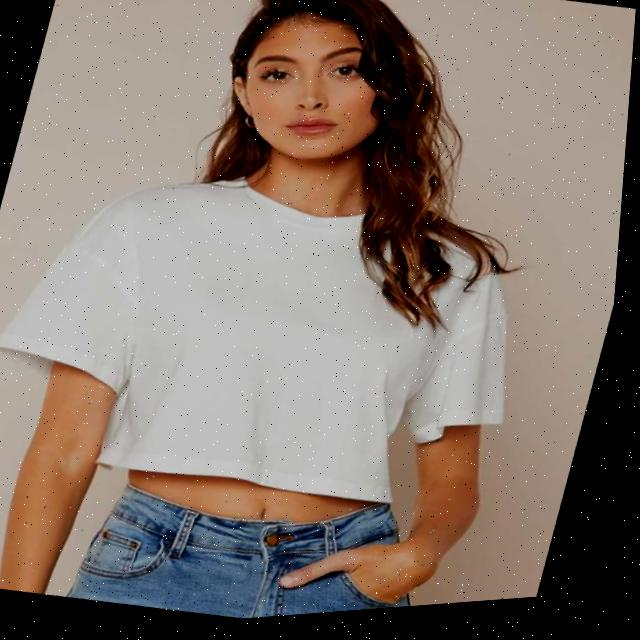Upper-Body: (0, 182, 510, 511)
